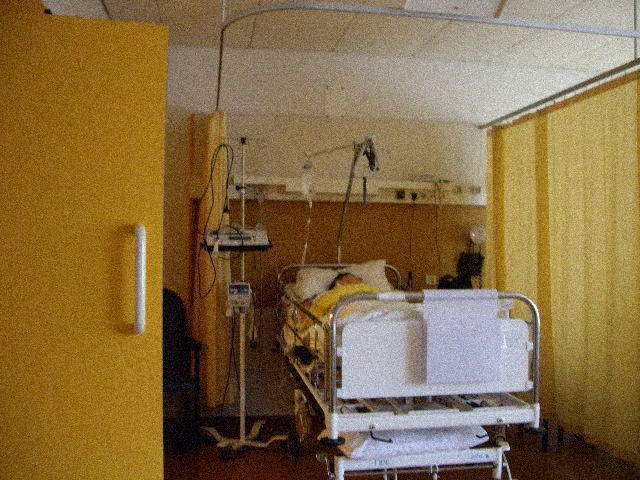Otro Obstaculo: (470, 119, 639, 469)
Puerta: (2, 20, 170, 478)
